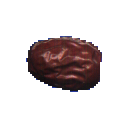gd: (21, 27, 112, 101)
